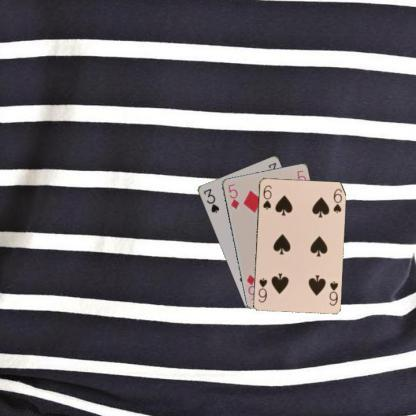3s: (200, 186, 221, 214)
5d: (226, 182, 240, 210)
6s: (326, 278, 340, 307), (260, 182, 272, 210)
